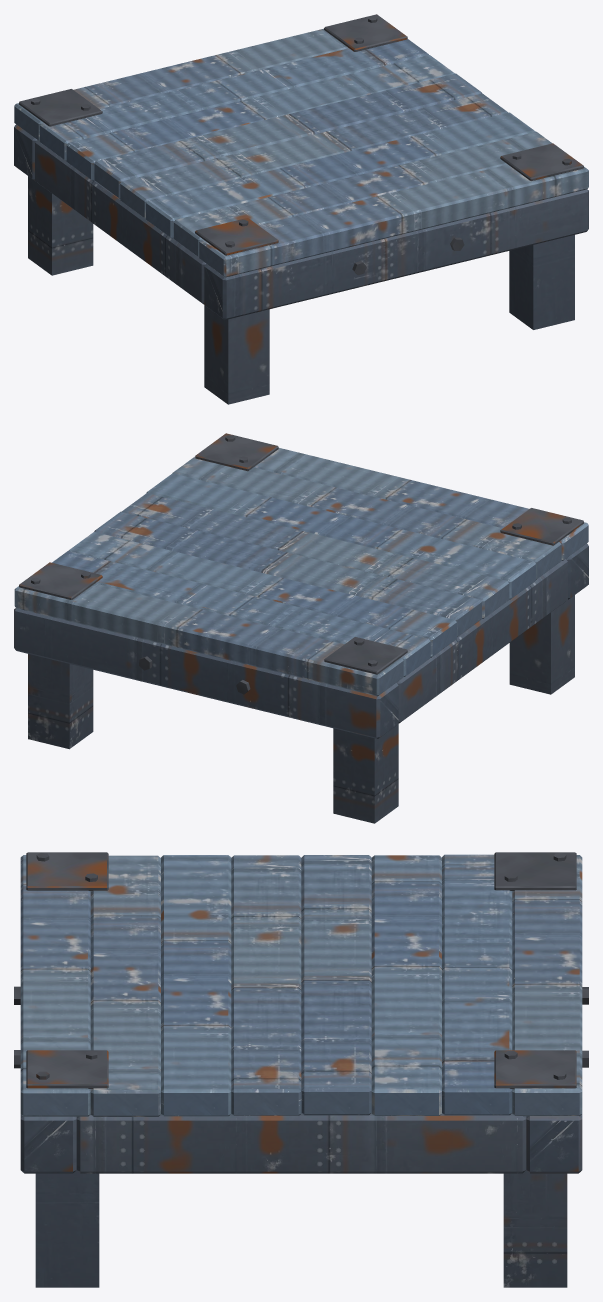
File: makine_platformu_kucuk.glb
3 renders of one model, top to bottom at view 1: azimuth 30°, elevation 25°; view 2: azimuth 150°, elevation 25°; view 3: azimuth 270°, elevation 25°, orthographic. The views are drawn at different scales.
Visible parts, largest first — view 1: makine_platformu_kucuk; view 2: makine_platformu_kucuk; view 3: makine_platformu_kucuk.
Boxes of the visible parts, x1=… form: makine_platformu_kucuk: x1=14, y1=14, x2=588, y2=404; makine_platformu_kucuk: x1=14, y1=433, x2=588, y2=823; makine_platformu_kucuk: x1=14, y1=852, x2=588, y2=1287.
Bounding box in the file's own units: 3 × 1.24 × 3.07.
Materials: 1 (1 with a texture image).
